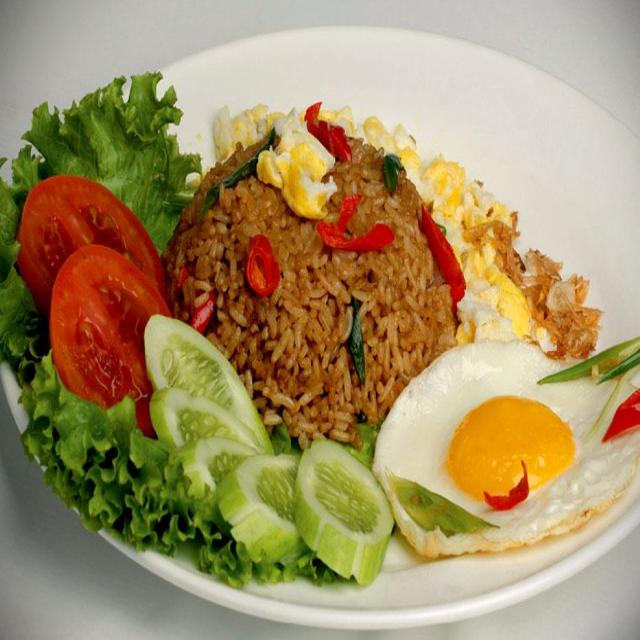Nasi Goreng: (160, 140, 467, 436)
